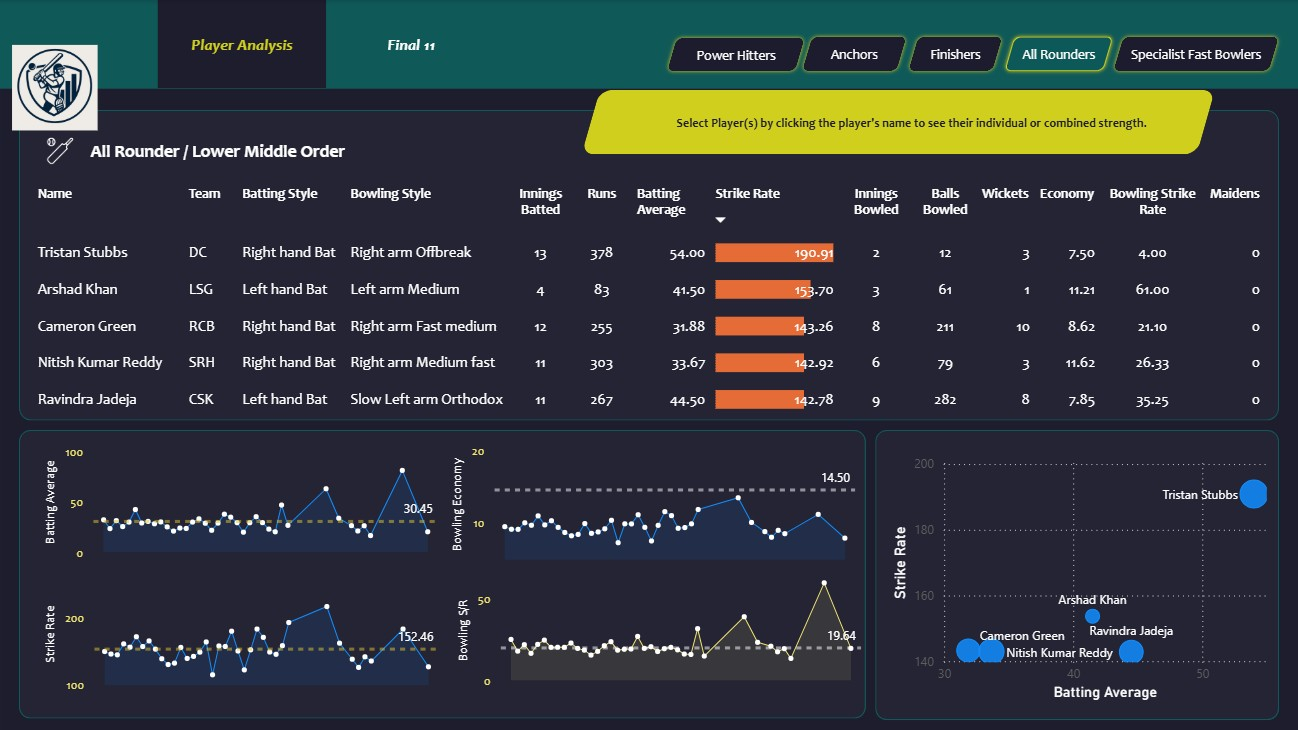

This screenshot's page, from the dashboard's own definition file:
{"tool":"powerbi","page":{"name":"Final 11","canvas":[1280,720],"ordinal":5},"visuals":[{"type":"shape","box":[0,83,1279.4,637.5],"z":0},{"type":"shape","box":[0,0,1278.9,87.1],"z":1000},{"type":"shape","box":[7,122.9,196,585.1],"z":1000,"group":"g1"},{"type":"group","id":"g1","title":"Group 1","box":[7,122.9,196,585.2],"z":2000},{"type":"actionButton","title":"Button Player Ana selected","box":[156.3,0,165.4,86.5],"z":3000},{"type":"actionButton","box":[784.6,32.5,111,42],"z":4000},{"type":"actionButton","box":[651.1,32.9,144.2,41],"z":5000},{"type":"actionButton","box":[888.6,32.5,101,42],"z":6000},{"type":"actionButton","box":[982.6,32.5,115,42],"z":7000},{"type":"actionButton","box":[1089.6,32.5,171,42],"z":8000},{"type":"pivotTable","fields":{"Values":["Min(player_info.team)","Min(player_info.battingStyle)","Min(player_info.playingRole)","Min(player_info.bowlingStyle)","Key_Measures.Batting Average","Key_Measures.Strike Rate","Key_Measures.Bowling Economy","Key_Measures.Bowling Strike Rate","Key_Measures.Bowling Average"],"Rows":["player_info.name"]},"box":[219.9,85.4,1048,501.1],"z":10000},{"type":"slicer","fields":{"Values":["player_info.name"]},"box":[20.3,146.4,170,561.7],"z":11000,"group":"g1"},{"type":"actionButton","title":"Button Player Ana selected","box":[321.8,1.5,167,85],"z":19000},{"type":"shape","box":[220,613.3,1000,63.3],"z":59000},{"type":"card","fields":{"Values":["Key_Measures.Avergate Balls Faced"]},"box":[640,616.7,110,56.7],"z":59500},{"type":"card","fields":{"Values":["Key_Measures.Bowling Strike Rate"]},"box":[886.7,615,93.3,60],"z":60000},{"type":"card","fields":{"Values":["Key_Measures.Bowling Average"]},"box":[771.7,616.7,90,60],"z":60500},{"type":"shape","box":[240,628.3,173.3,35],"z":61000},{"type":"card","fields":{"Values":["Key_Measures.Batting Average"]},"box":[430,615,93.3,60],"z":61500},{"type":"card","fields":{"Values":["Key_Measures.Strike Rate"]},"box":[523.3,615,93.3,60],"z":62000},{"type":"card","fields":{"Values":["Key_Measures.Bowling Economy"]},"box":[1000,616.7,93.3,60],"z":62500},{"type":"card","fields":{"Values":["Key_Measures.Dot Ball %"]},"box":[1108.3,616.7,93.3,60],"z":63000}]}

Visuals, with their boxes in screenshot pixels (x1, y1, x2, y2), scaled from the page's 1280x720 canvas onto the 1298x730 screenshot:
shape: detection(0, 84, 1297, 729)
shape: detection(0, 0, 1297, 88)
shape: detection(7, 125, 206, 718)
"Group 1" group: detection(7, 125, 206, 718)
"Button Player Ana selected" actionButton: detection(158, 0, 326, 88)
actionButton: detection(796, 33, 908, 76)
actionButton: detection(660, 33, 806, 75)
actionButton: detection(901, 33, 1004, 76)
actionButton: detection(996, 33, 1113, 76)
actionButton: detection(1105, 33, 1278, 76)
pivotTable - Min(player_info.team) x Min(player_info.battingStyle): detection(223, 87, 1286, 595)
slicer - player_info.name: detection(21, 148, 193, 718)
"Button Player Ana selected" actionButton: detection(326, 2, 496, 88)
shape: detection(223, 622, 1237, 686)
card - Key_Measures.Avergate Balls Faced: detection(649, 625, 761, 683)
card - Key_Measures.Bowling Strike Rate: detection(899, 624, 994, 684)
card - Key_Measures.Bowling Average: detection(783, 625, 874, 686)
shape: detection(243, 637, 419, 673)
card - Key_Measures.Batting Average: detection(436, 624, 531, 684)
card - Key_Measures.Strike Rate: detection(531, 624, 625, 684)
card - Key_Measures.Bowling Economy: detection(1014, 625, 1109, 686)
card - Key_Measures.Dot Ball %: detection(1124, 625, 1218, 686)
